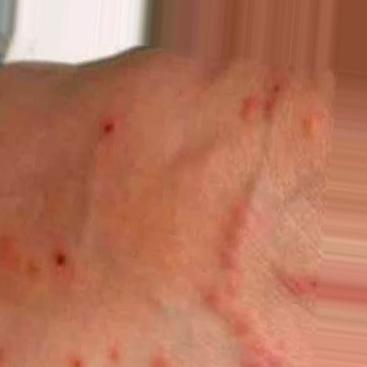Fleas: (202, 199, 280, 367), (258, 77, 285, 121), (282, 271, 322, 299), (45, 246, 75, 282), (97, 115, 122, 144), (239, 95, 256, 121), (106, 345, 125, 365), (70, 354, 87, 366)
